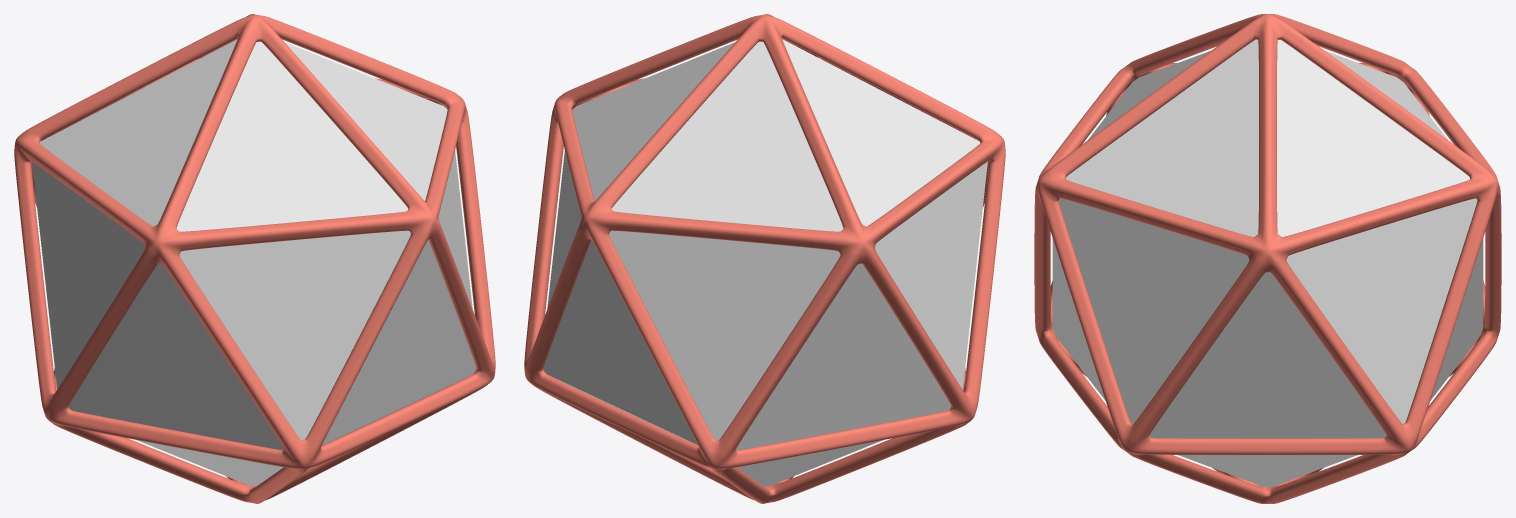
Rendered from Wellsup.glb.
3 views of the same model, side by side, from view 1: azimuth 30°, elevation 25°; view 2: azimuth 150°, elevation 25°; view 3: azimuth 270°, elevation 25° (orthographic).
Visible parts, largest first — view 1: WellSupHover, WellSupWireframe; view 2: WellSupHover, WellSupWireframe; view 3: WellSupHover, WellSupWireframe.
Part boxes in pixels (bbox=[...]): WellSupHover: bbox=[32, 39, 476, 486]; WellSupWireframe: bbox=[14, 14, 495, 503]; WellSupHover: bbox=[543, 39, 987, 486]; WellSupWireframe: bbox=[524, 14, 1005, 503]; WellSupHover: bbox=[1052, 39, 1483, 486]; WellSupWireframe: bbox=[1034, 14, 1501, 503].
Bounding box in the file's own units: 1.91 × 2.13 × 1.84.
